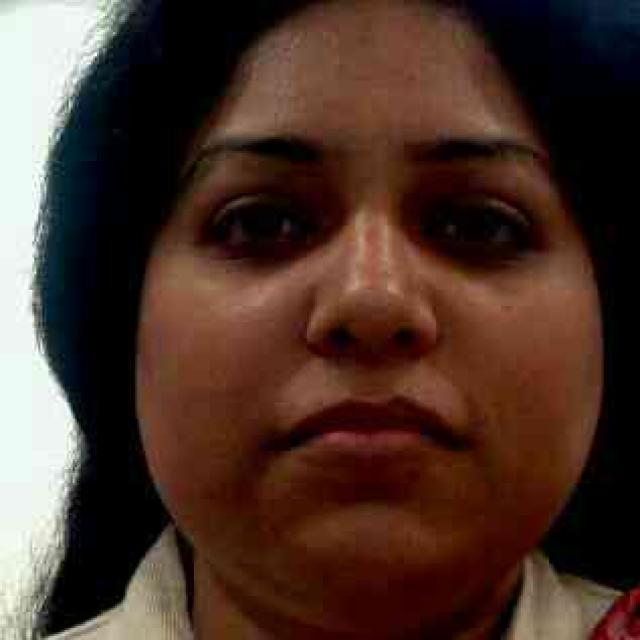Puffy Eyes - v3 Dark Circle: (206, 190, 346, 277), (400, 229, 543, 274)
